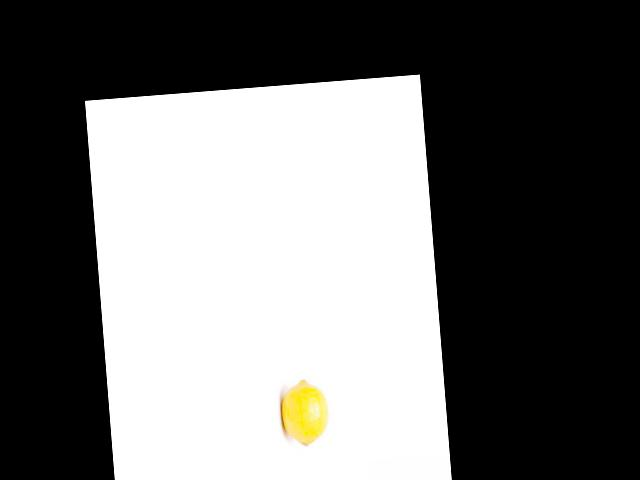lemon: (277, 371, 335, 454)
